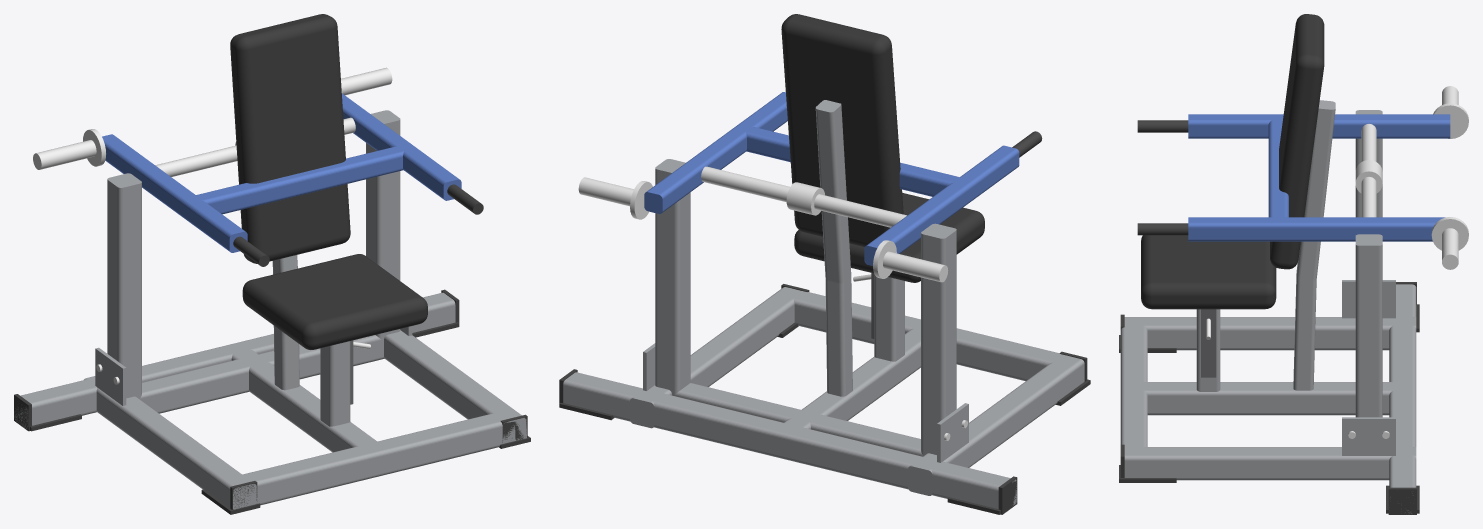
3 renders of one model, left to right at view 1: azimuth 30°, elevation 25°; view 2: azimuth 150°, elevation 25°; view 3: azimuth 270°, elevation 25°, orthographic. The views are drawn at different scales.
Parts seen in each view (by area): view 1: base, backrest_pad, lever_support, seat_pad, lever_bar (×2), lever, lever_horn (×2), seat_post, backrest_support_tube, lever_axle, gusset, lever_tail; view 2: base, backrest_pad, lever_support, backrest_support_tube, lever_bar (×2), lever_horn (×2), seat_pad, lever_tail (×2), lever_axle, seat_post, lever, gusset (+1 smaller); view 3: base, seat_pad, lever_bar (×2), backrest_pad, lever_support, backrest_support_tube, lever_tail (×2), gusset (×2), lever_horn (×2), lever, lever_grip (×2), lever_axle (+4 smaller).
Part boxes in pixels (x1,y1,x2,y2): base: (14,292,526,509); backrest_pad: (230,14,350,263); lever_support: (107,110,400,413); seat_pad: (242,254,427,349); lever_bar (×2): (138,112,461,252); lever: (190,146,404,214); lever_horn (×2): (33,67,392,169); seat_post: (320,341,350,426); backrest_support_tube: (272,255,299,390); lever_axle: (155,117,355,176); gusset: (95,347,126,405); lever_tail: (102,134,153,178); base: (563,287,1084,508); backrest_pad: (781,14,903,246); lever_support: (655,159,956,456); backrest_support_tube: (815,100,852,396); lever_bar (×2): (689,92,1019,228); lever_horn (×2): (578,177,948,282); seat_pad: (794,193,984,282); lever_tail (×2): (644,161,924,265); lever_axle: (701,166,906,227); seat_post: (874,274,904,361); lever: (740,126,964,196); gusset: (937,403,968,462); base: (1120,284,1416,513); seat_pad: (1141,235,1276,309); lever_bar (×2): (1188,114,1368,241); backrest_pad: (1270,14,1324,269); lever_support: (1355,110,1382,417); backrest_support_tube: (1293,100,1335,390); lever_tail (×2): (1369,114,1450,241); gusset (×2): (1342,280,1395,455); lever_horn (×2): (1431,86,1468,269); lever: (1268,117,1288,220); lever_grip (×2): (1137,120,1188,235); lever_axle: (1361,124,1376,217).
Size of the model in its own units: 1.45 by 1.23 by 1.04.
